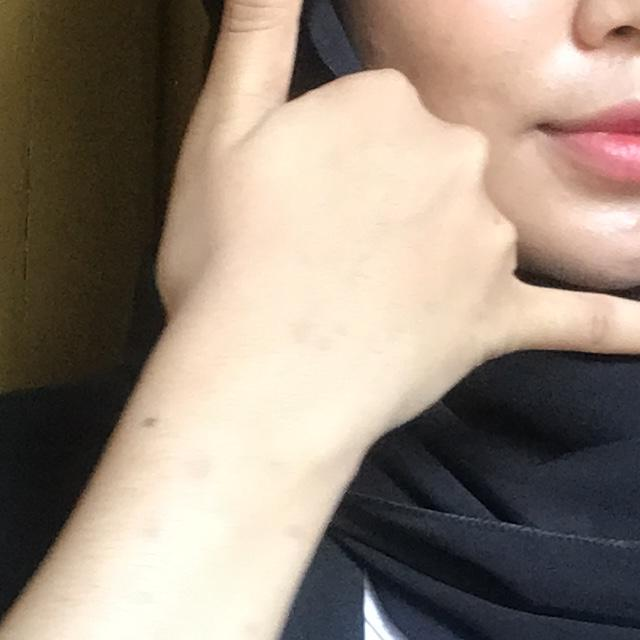telpon: (40, 0, 640, 556)
